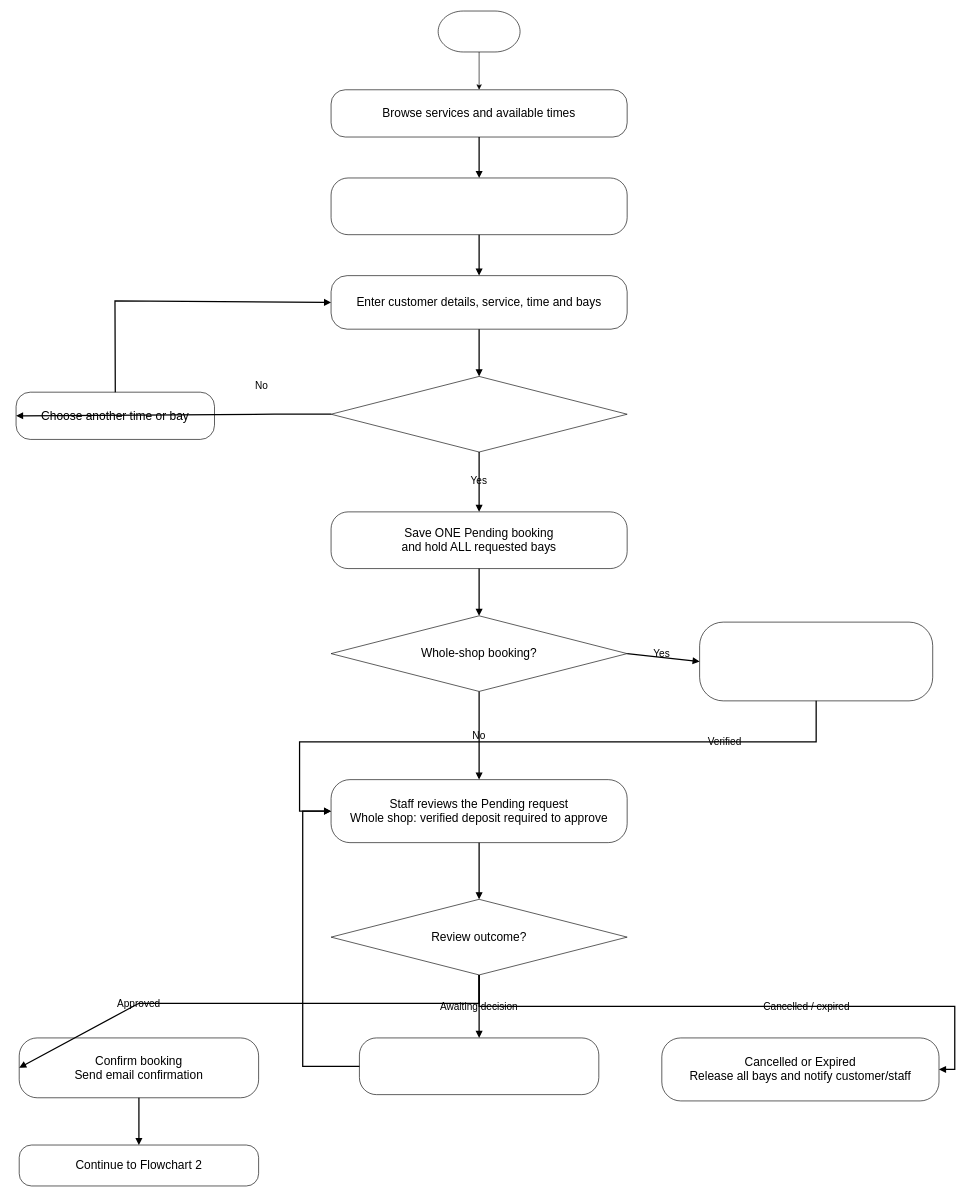
Image size: 971x1197. Some labels were removed from this diagram. Each missing label, with the centre of its shape:
All bays available?: pixel 478 414
Customer: sign in and verify email Staff: sign in with booking permission: pixel 478 206
Keep Pending Continue staff review: pixel 479 1066
Start: pixel 479 31
Verify deposit with POS If unverified: keep Pending for staff follow-up: pixel 816 661
